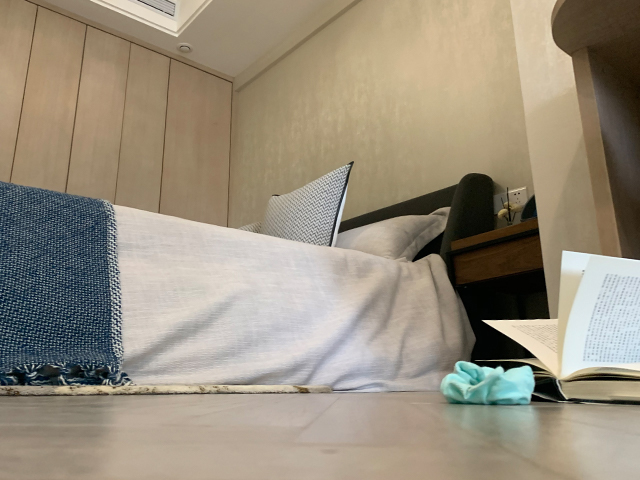bed: (1, 158, 496, 395)
book: (478, 249, 640, 405)
cabinet: (444, 215, 547, 377)
carpet: (1, 381, 334, 397)
socks: (438, 359, 537, 406)
